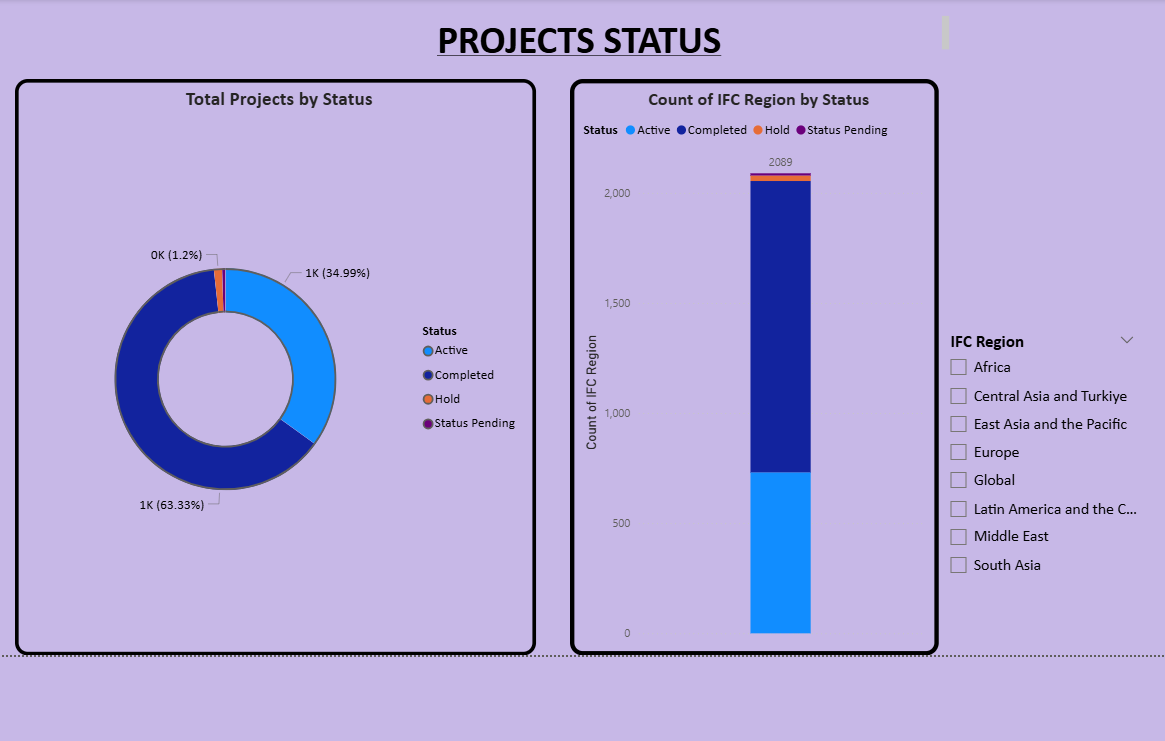

Layout of this report page (visuals, bound fields, positions):
{"tool":"powerbi","page":{"name":"Page 5","canvas":[1280,720],"ordinal":4},"visuals":[{"type":"donutChart","fields":{"Series":["Cleaned dataset.Status"],"Y":["Cleaned dataset.Total Projects"]},"box":[16.5,87.8,572.2,632.6],"z":0},{"type":"columnChart","fields":{"Series":["Cleaned dataset.Status"],"Y":["CountNonNull(Cleaned dataset.IFC Region)"]},"box":[625.7,87.8,404.8,632.6],"z":1000},{"type":"slicer","fields":{"Values":["Cleaned dataset.IFC Region"]},"box":[1030.5,359.5,226.4,345.8],"z":2000},{"type":"textbox","box":[474.8,13.7,572.2,53.5],"z":3000}]}

Visuals, with their boxes on the page's 1280x720 design canvas (x1, y1, x2, y2). These are canvas units, not pixel positions in the 1165x741 screenshot, which may show the page scaled, cropped or inside an application window:
donutChart - Cleaned dataset.Status x Cleaned dataset.Total Projects: box(16, 88, 589, 720)
columnChart - Cleaned dataset.Status x CountNonNull(Cleaned dataset.IFC Region): box(626, 88, 1030, 720)
slicer - Cleaned dataset.IFC Region: box(1030, 360, 1257, 705)
textbox: box(475, 14, 1047, 67)
